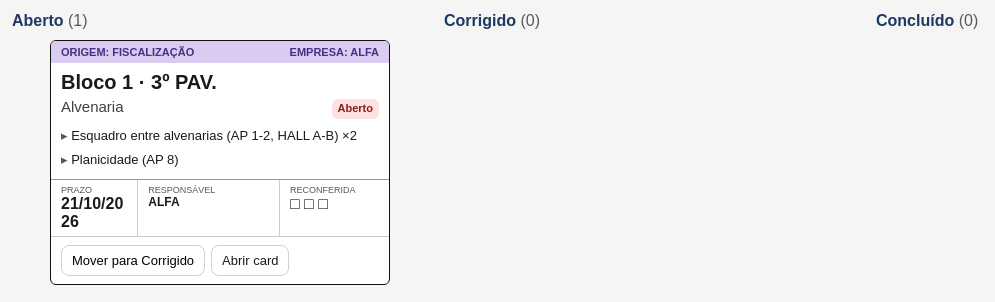
Scenario: <Kanban/> › o pacote devolvido por uma marcação troca de coluna sem recarregar
Click the button "Mover para Corrigido" at (133,260), box [61, 245, 205, 276]
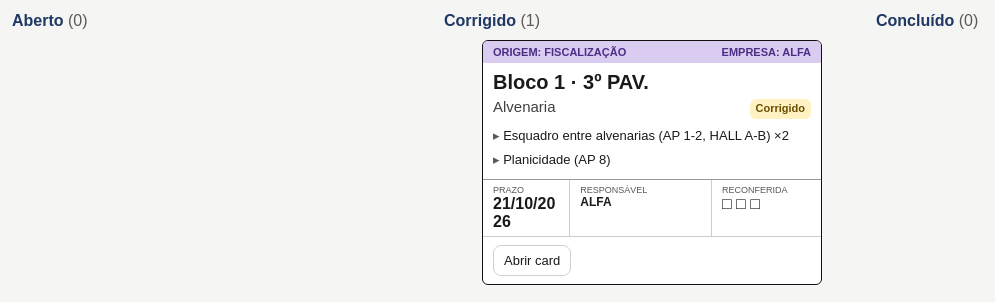
Result: the element "Corrigido (1)" is shown at [444, 12, 860, 285]
